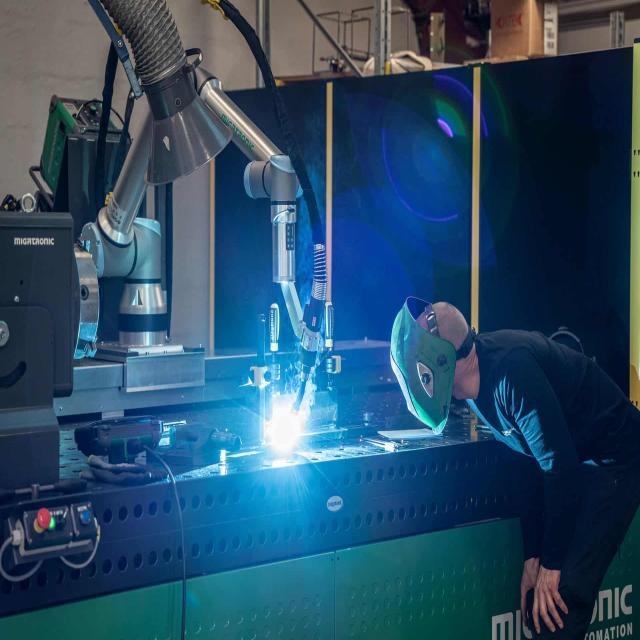welding: (266, 399, 304, 450)
